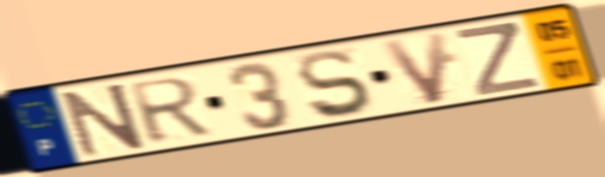3: (227, 60, 293, 133)
N: (57, 79, 150, 160)
R: (124, 75, 216, 147)
S: (294, 48, 376, 122)
V: (376, 28, 450, 107)
Z: (452, 19, 544, 99)
